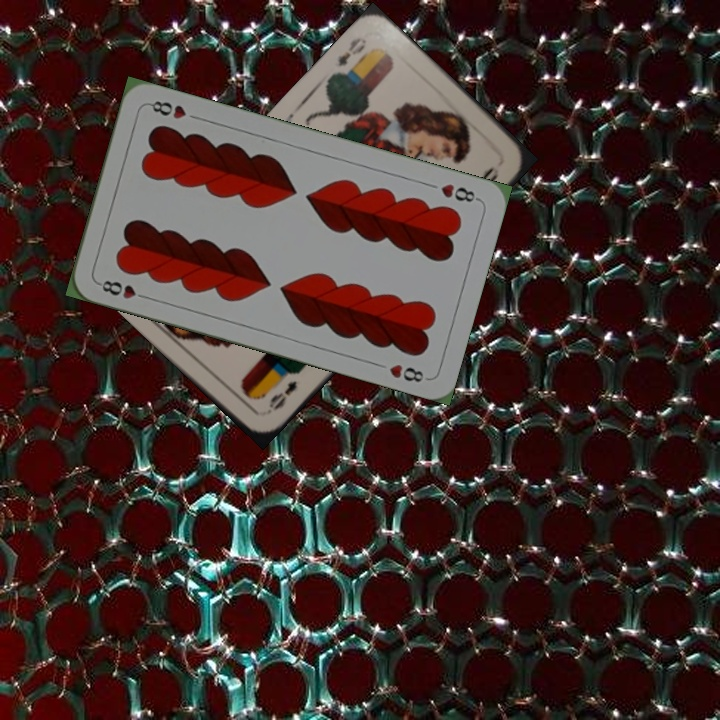EO: (264, 376, 300, 414), (334, 33, 370, 70)
H8: (94, 276, 152, 302), (436, 179, 482, 205)
